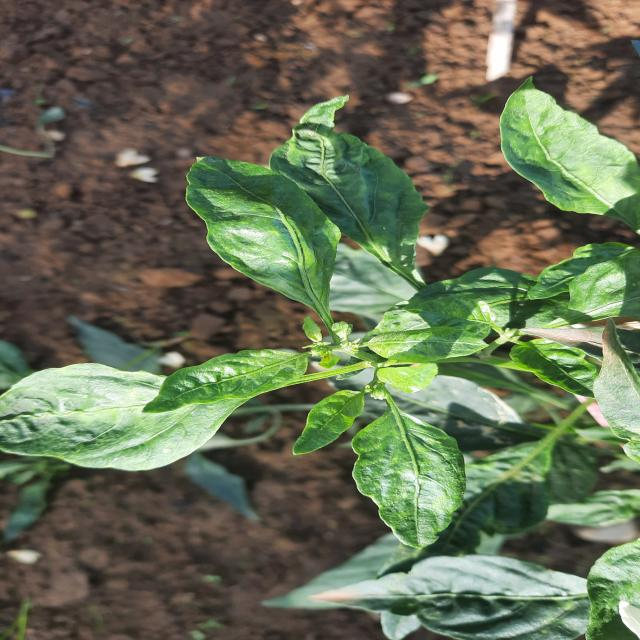thrips: (171, 149, 387, 334), (342, 414, 504, 562), (117, 350, 336, 421)
